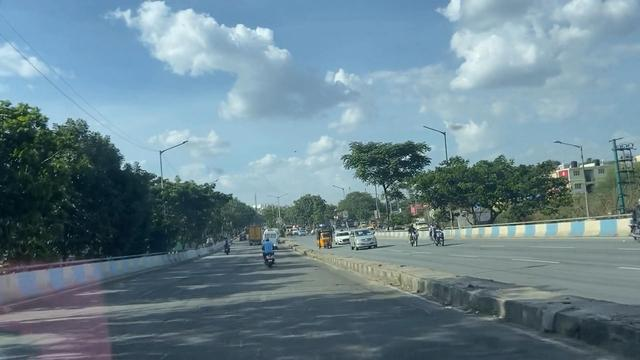LMV: (259, 232, 280, 270)
RoadDamages: (169, 293, 374, 357)
